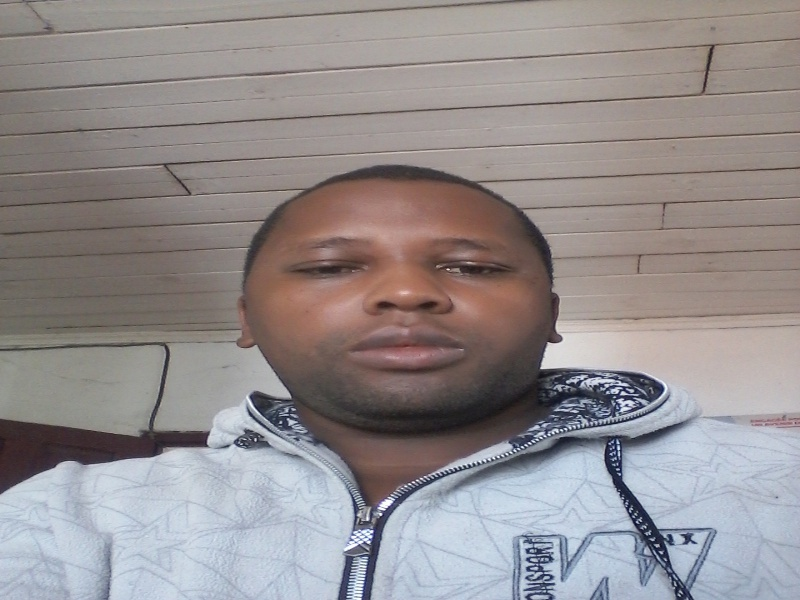TsisyArotava: (215, 121, 608, 479)
